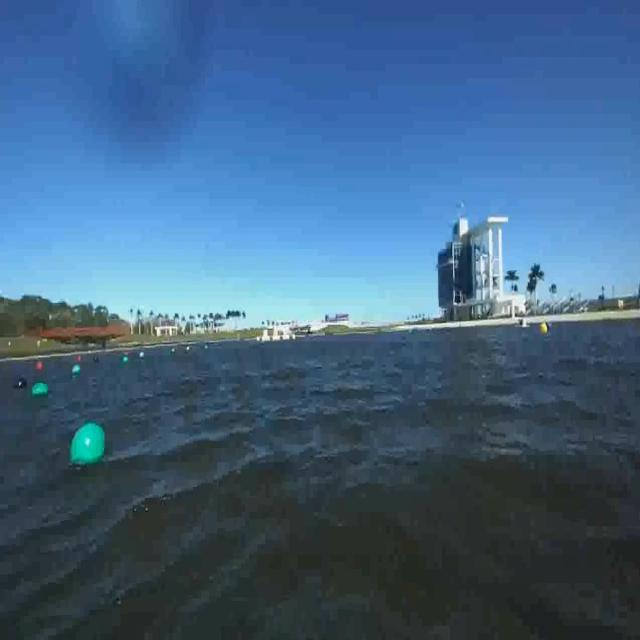black-buoy: (15, 373, 25, 394)
green-buoy: (70, 421, 109, 467), (30, 381, 47, 396), (72, 364, 81, 375)
yellow-buoy: (540, 320, 548, 336)
